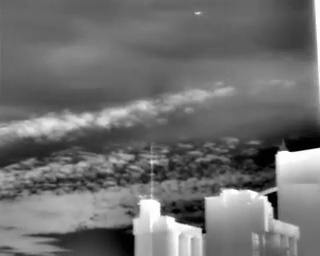BIRD: (192, 8, 204, 18)
